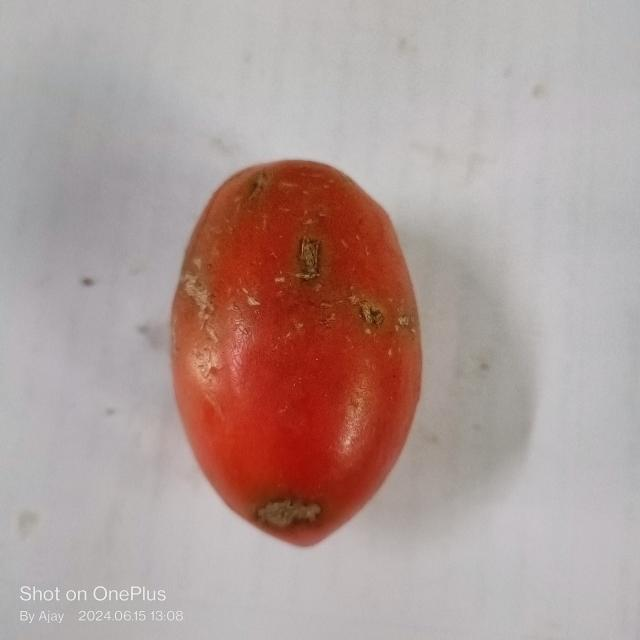Bacterial_Spot: (252, 492, 333, 526), (294, 235, 324, 286), (348, 294, 382, 326)
